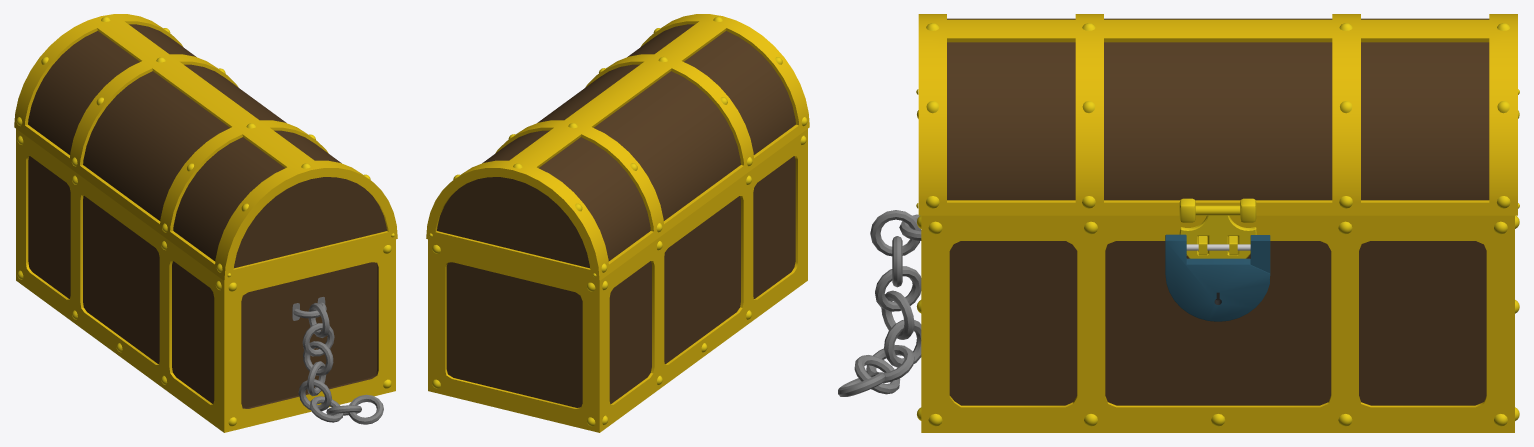
The model's file is treasurebox01_3.fbx.
The picture shows the model from 3 angles, left to right: view 1: azimuth 30°, elevation 25°; view 2: azimuth 150°, elevation 25°; view 3: azimuth 270°, elevation 25°; orthographic projection. The views are drawn at different scales.
Parts seen in each view (by area): view 1: Flap, UnderBox, Rings, Pin_Flap, Pin_Under; view 2: UnderBox, Flap, Pin_Flap, Pin_Under; view 3: UnderBox, Flap, Rings, Lock, Latch, Pin_Under, Pin_Flap, Bearing, Lock_Move.
Boxes of the visible parts, x1,y1,x2,y2 form: Flap: [14, 14, 397, 280]; UnderBox: [16, 129, 395, 432]; Rings: [292, 297, 383, 424]; Pin_Flap: [16, 16, 394, 277]; Pin_Under: [17, 135, 391, 426]; UnderBox: [428, 129, 807, 432]; Flap: [426, 14, 809, 280]; Pin_Flap: [429, 16, 807, 277]; Pin_Under: [432, 135, 806, 426]; UnderBox: [921, 215, 1514, 432]; Flap: [918, 14, 1517, 215]; Rings: [838, 210, 921, 396]; Lock: [1165, 234, 1270, 321]; Latch: [1179, 205, 1256, 258]; Pin_Under: [916, 110, 1519, 426]; Pin_Flap: [916, 23, 1519, 208]; Bearing: [1179, 198, 1256, 222]; Lock_Move: [1250, 235, 1270, 273].
Size of the model in its own units: 220 by 275 by 483.
